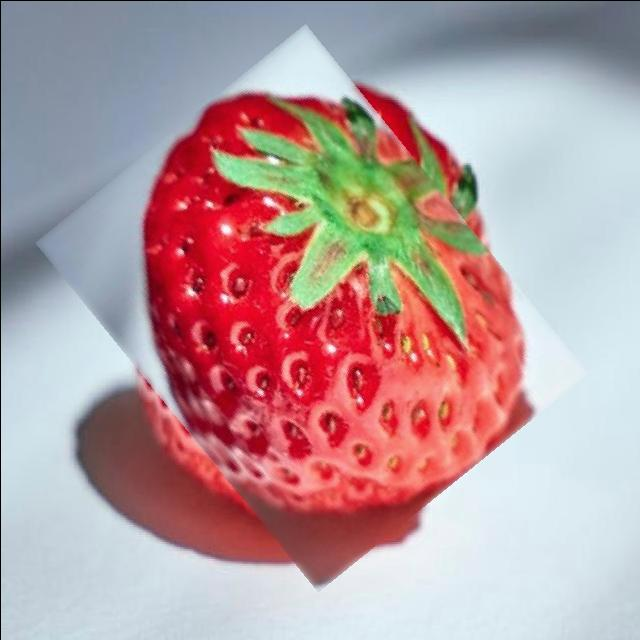strawberry: (86, 52, 536, 562)
